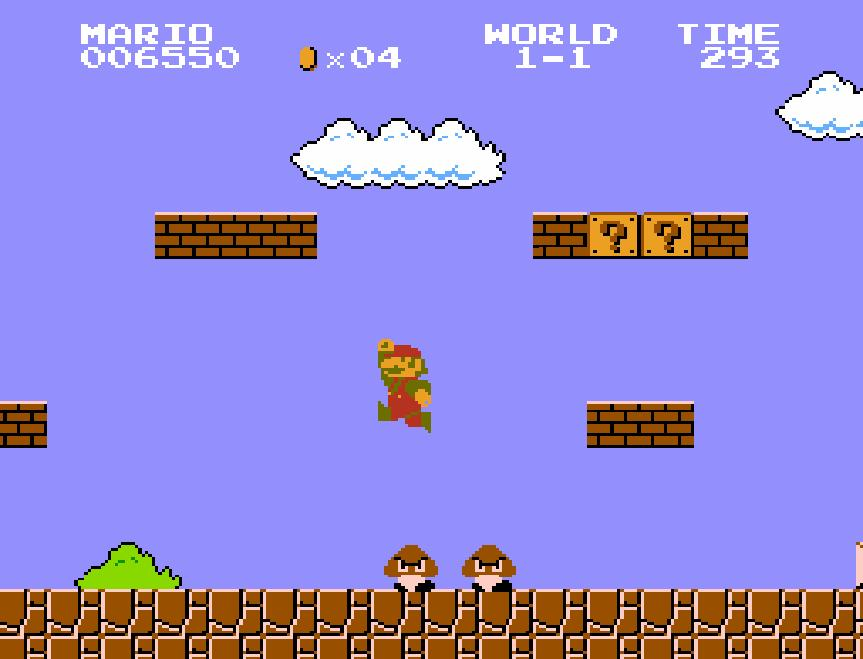big_mario: (376, 336, 434, 435)
